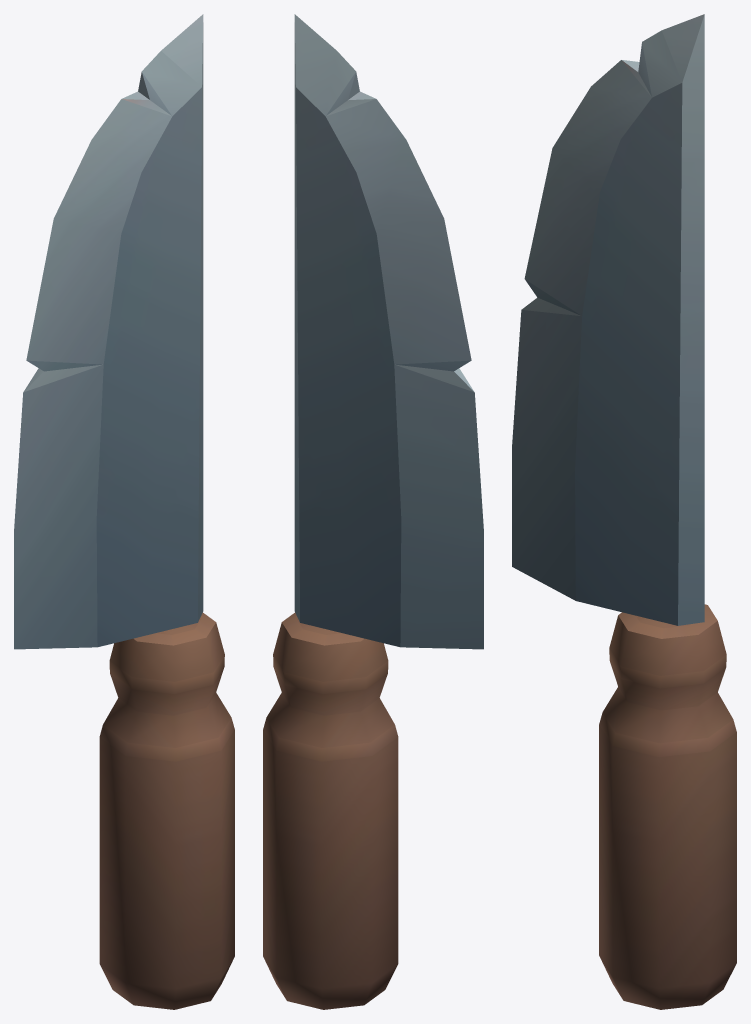
The model's file is knife.glb.
The picture shows the model from 3 angles, left to right: view 1: azimuth 30°, elevation 25°; view 2: azimuth 150°, elevation 25°; view 3: azimuth 330°, elevation 25°; orthographic projection.
Visible parts, largest first — view 1: knife; view 2: knife; view 3: knife.
Part boxes in pixels (left/top/right/bottom): knife: left=14, top=14, right=234, bottom=1009; knife: left=263, top=14, right=483, bottom=1009; knife: left=512, top=14, right=736, bottom=1009.
Size of the model in its own units: 0.2878 by 1.29 by 0.1513.
Materials: 1 (1 with a texture image).
